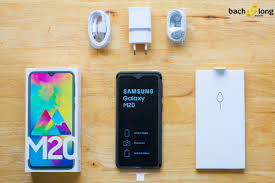samsung: (115, 68, 164, 172)
